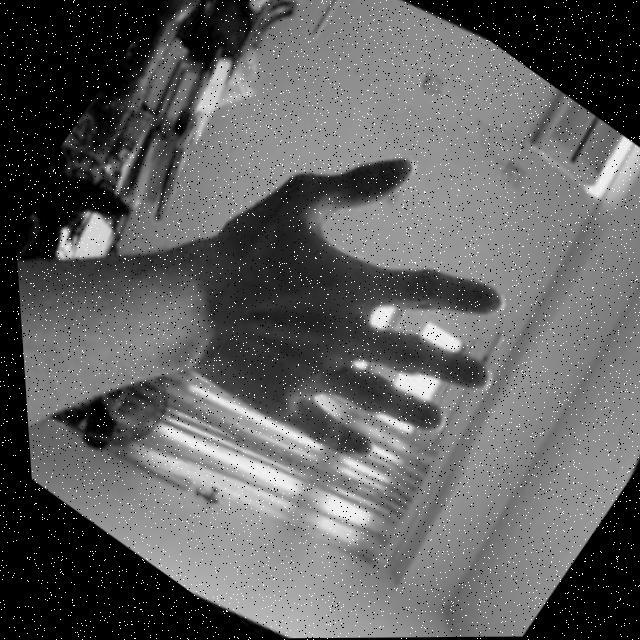no-gloves: (140, 100, 577, 522)
